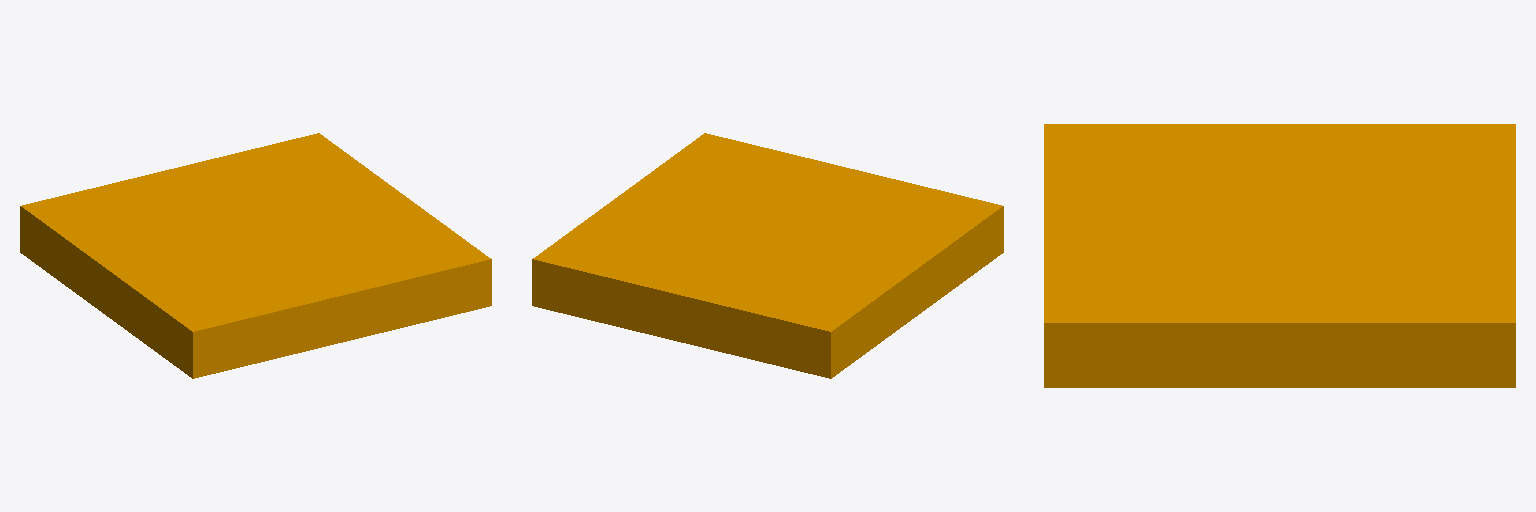
URDF robot description (apriltag_2_3611):
<robot name="apriltag_2_3611">

    <link name="apriltag_link_id2">
        <inertial>
            <origin xyz="0 0 0" rpy="0 0 0"/>
            <mass value="1.0"/>
            <inertia ixx="0.07461" ixy="0.0" ixz="0.0" iyy="0.5854" iyz="0.0" izz="0.02641"/>
        </inertial>
        <collision>
            <origin xyz="0 0 0" rpy="0 0 0"/>
            <geometry>
                <box size="0.2 0.2 0.1"/>
            </geometry>
        </collision>
        <visual>
            <origin xyz="0 0 0" rpy="0 0 0"/>
            <geometry>
                <mesh filename="package://apriltag_description/meshes/apriltag_2.dae"/>
            </geometry>
        </visual>
    </link>
    
    <gazebo reference="apriltag_link_id2">
        <kp>100000.0</kp>
        <kd>100000.0</kd>
        <mu1>0.1</mu1>
        <mu2>0.1</mu2>  
        <fdir1>1 0 0</fdir1>

           <!-- this tag may be unecessary if static is set to true
            (but using since may set static to false later)-->
        <gravity>0</gravity>
    </gazebo>

    <!-- Make sure that the reference="" attribute is not specified -->
    <gazebo>
        <static>true</static>
     
        
    </gazebo>
    

</robot>

--- What the picture shows (computed from the rendered views, not written in the file) ---
3 views of the same robot in one strip: view 1: azimuth 30°, elevation 25°; view 2: azimuth 150°, elevation 25°; view 3: azimuth 270°, elevation 25° (orthographic).
Model apriltag_2_3611 with 1 links and 0 joints (none), rooted at apriltag_link_id2, posed every joint at zero.
Links seen in each view (by area): view 1: apriltag_link_id2; view 2: apriltag_link_id2; view 3: apriltag_link_id2.
Link boxes in pixels (bbox=[...]): apriltag_link_id2: bbox=[20, 133, 491, 378]; apriltag_link_id2: bbox=[532, 133, 1003, 378]; apriltag_link_id2: bbox=[1044, 124, 1515, 387].
Bounding box of the posed robot: 0.16 × 0.16 × 0.0241 m (x, y, z).
1 mesh visuals loaded from 1 distinct referenced files (1 Collada DAE).